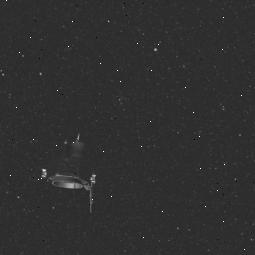earth_observation_sat_1: (31, 124, 119, 211)
